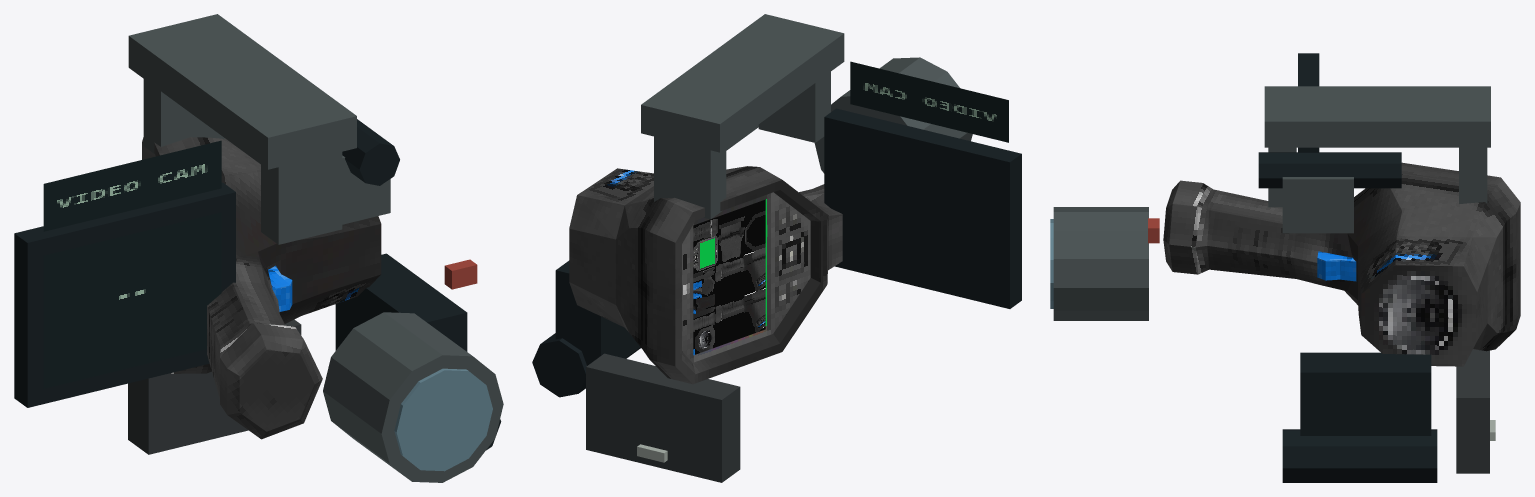
File: blender_video_camera_1.glb
3 renders of one model, left to right at view 1: azimuth 30°, elevation 25°; view 2: azimuth 150°, elevation 25°; view 3: azimuth 270°, elevation 25°, orthographic. The views are drawn at different scales.
Parts seen in each view (by area): view 1: blender_video_camera_1; view 2: blender_video_camera_1; view 3: blender_video_camera_1.
Part boxes in pixels (bbox=[...]): blender_video_camera_1: bbox=[14, 14, 503, 482]; blender_video_camera_1: bbox=[532, 14, 1021, 482]; blender_video_camera_1: bbox=[1050, 53, 1520, 482].
Size of the model in its own units: 0.1825 by 0.1515 by 0.1975.
1 material, 1 textured.
